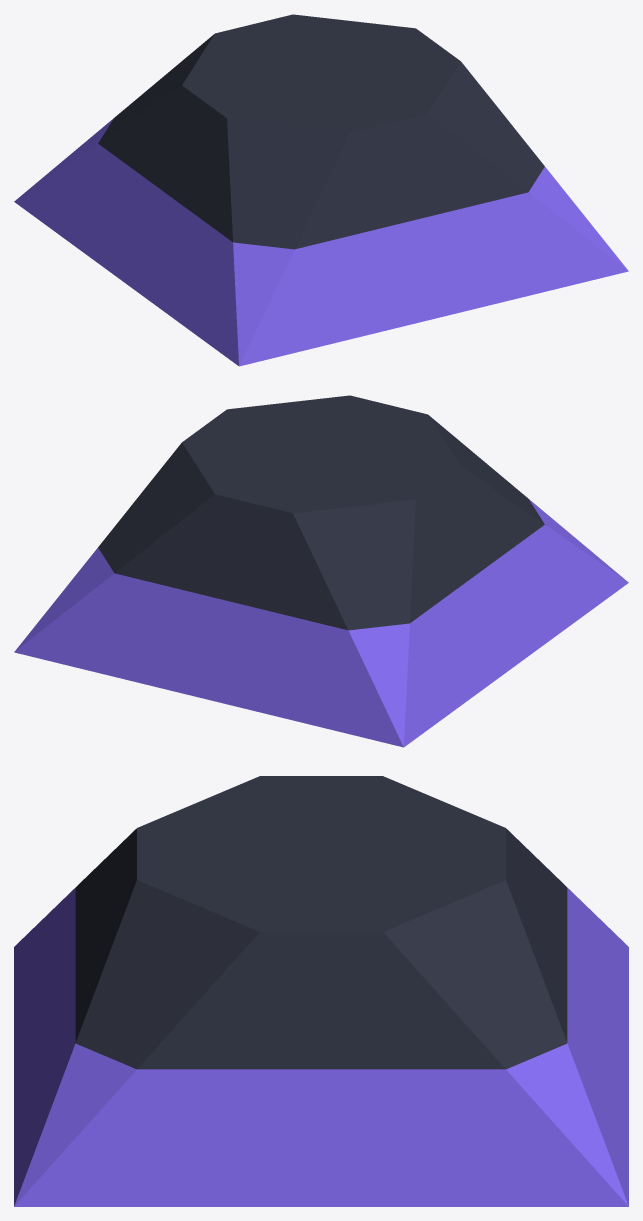
Rendered from EnemyBigBlasterBase.fbx.
3 views of the same model, one above another, from view 1: azimuth 30°, elevation 25°; view 2: azimuth 150°, elevation 25°; view 3: azimuth 270°, elevation 25° (orthographic). The views are drawn at different scales.
Visible parts, largest first — view 1: window_domeRound; view 2: window_domeRound; view 3: window_domeRound.
Part boxes in pixels (box(x1,y1,x2,y2)): window_domeRound: box(14, 14, 628, 366); window_domeRound: box(14, 395, 628, 747); window_domeRound: box(14, 776, 628, 1206).
Bounding box in the file's own units: 7 × 2.8 × 7.
